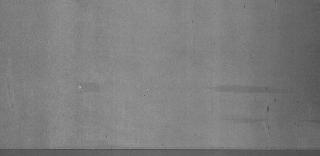welding line: (1, 146, 319, 154)
